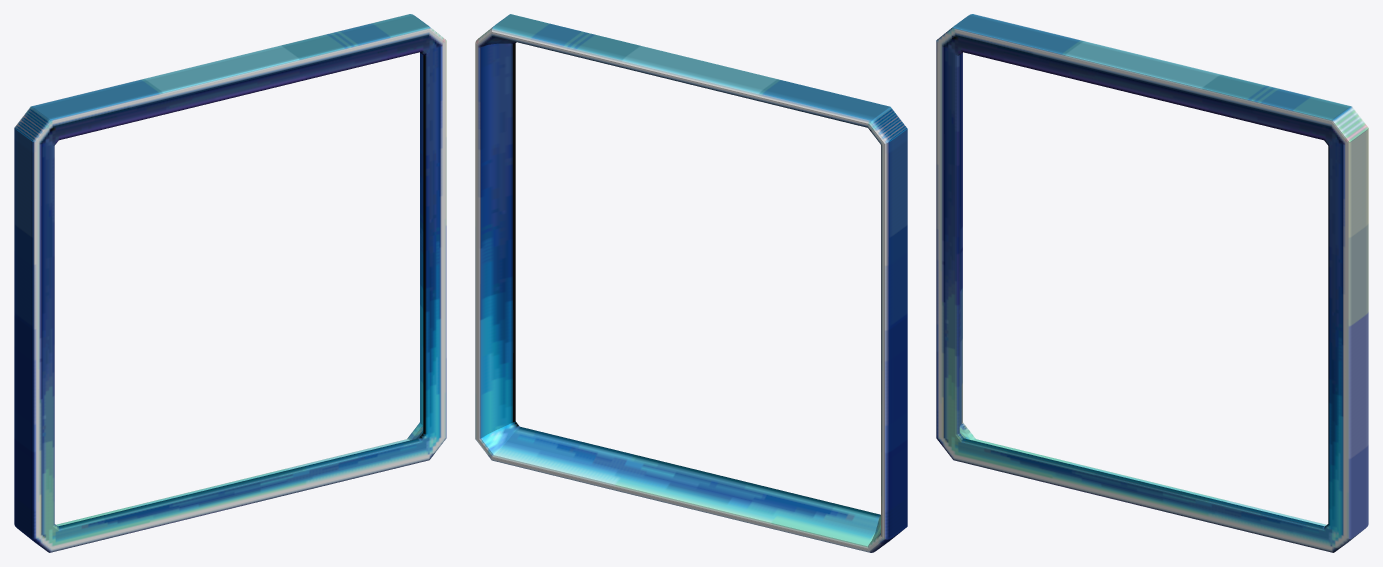
Rendered from Player Card Border.fbx.
The picture shows the model from 3 angles, left to right: view 1: azimuth 30°, elevation 25°; view 2: azimuth 150°, elevation 25°; view 3: azimuth 330°, elevation 25°; orthographic projection.
Visible parts, largest first — view 1: object_0; view 2: object_0; view 3: object_0.
Boxes of the visible parts, <box> form: object_0: <box>14,14,446,552</box>; object_0: <box>475,14,907,552</box>; object_0: <box>936,14,1368,552</box>.
Bounding box in the file's own units: 2010 × 2010 × 174.
